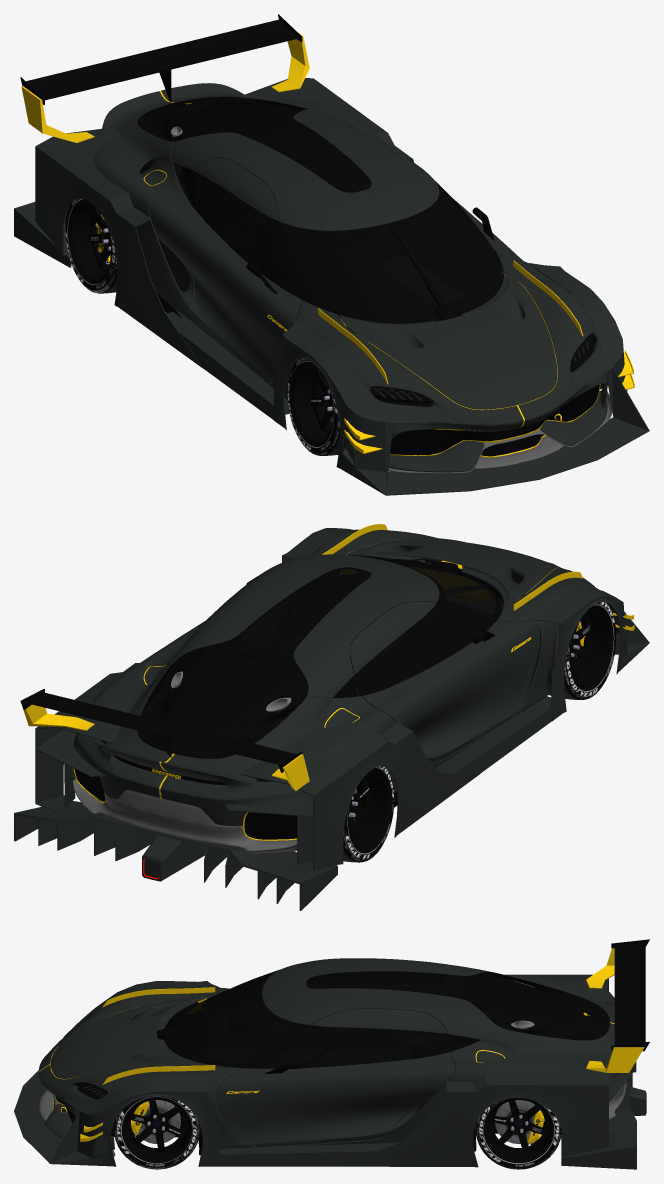
File: Gemera_widebody.glb
3 renders of one model, top to bottom at view 1: azimuth 30°, elevation 25°; view 2: azimuth 150°, elevation 25°; view 3: azimuth 270°, elevation 25°, orthographic. The views are drawn at different scales.
Visible parts, largest first — view 1: Koenigsegg Gemera '21, Circle, Circle.001, Rim .001_Rim_0.002, Rim .001_Rim_0.003, Circle.006, Koenigsegg Gemera '21.003, Circle.004, Tire.001_Tyre Side_0.002, Tire.001_Tyre Side_0.003, Circle.005; view 2: Koenigsegg Gemera '21, Circle, Koenigsegg Gemera '21.006, Circle.001, Rim .001_Rim_0.002, Rim .001_Rim_0.003, Circle.006, Tire.001_Tyre Side_0.002, Circle.004, Tire.001_Tyre Side_0.003; view 3: Koenigsegg Gemera '21, Circle, Circle.001, Rim .001, Rim .001_Rim_0.001, Tire.001, Circle.006, Circle.004, Tire.001_Tyre Side_0.001, Brakedisk.001, Brakedisk.001_Brakedisk 03_0.001, Koenigsegg Gemera '21.003.
Boxes of the visible parts, bbox=[...] form: Koenigsegg Gemera '21: bbox=[93, 83, 607, 472]; Circle: bbox=[14, 78, 649, 495]; Circle.001: bbox=[20, 14, 302, 104]; Rim .001_Rim_0.002: bbox=[290, 361, 333, 446]; Rim .001_Rim_0.003: bbox=[68, 199, 111, 284]; Circle.006: bbox=[21, 31, 309, 142]; Koenigsegg Gemera '21.003: bbox=[388, 391, 612, 473]; Circle.004: bbox=[318, 260, 583, 383]; Tire.001_Tyre Side_0.002: bbox=[287, 358, 339, 455]; Tire.001_Tyre Side_0.003: bbox=[65, 198, 117, 293]; Circle.005: bbox=[344, 350, 634, 453]; Koenigsegg Gemera '21: bbox=[70, 529, 596, 840]; Circle: bbox=[14, 528, 649, 910]; Koenigsegg Gemera '21.006: bbox=[72, 779, 297, 852]; Circle.001: bbox=[20, 689, 302, 772]; Rim .001_Rim_0.002: bbox=[569, 605, 613, 690]; Rim .001_Rim_0.003: bbox=[348, 768, 391, 853]; Circle.006: bbox=[23, 690, 309, 790]; Tire.001_Tyre Side_0.002: bbox=[564, 602, 616, 699]; Circle.004: bbox=[322, 524, 582, 610]; Tire.001_Tyre Side_0.003: bbox=[343, 766, 394, 862]; Koenigsegg Gemera '21: bbox=[38, 958, 621, 1155]; Circle: bbox=[14, 974, 646, 1169]; Circle.001: bbox=[611, 939, 649, 1051]; Rim .001: bbox=[122, 1097, 192, 1163]; Rim .001_Rim_0.001: bbox=[483, 1098, 553, 1163]; Tire.001: bbox=[113, 1096, 200, 1169]; Circle.006: bbox=[586, 948, 644, 1072]; Circle.004: bbox=[102, 987, 215, 1085]; Tire.001_Tyre Side_0.001: bbox=[475, 1099, 561, 1169]; Brakedisk.001: bbox=[137, 1100, 180, 1143]; Brakedisk.001_Brakedisk 03_0.001: bbox=[495, 1100, 534, 1143]; Koenigsegg Gemera '21.003: bbox=[39, 1090, 115, 1156].
Bounding box in the file's own units: 2.33 × 1.3 × 5.47.
Materials: 23 (6 with a texture image).
